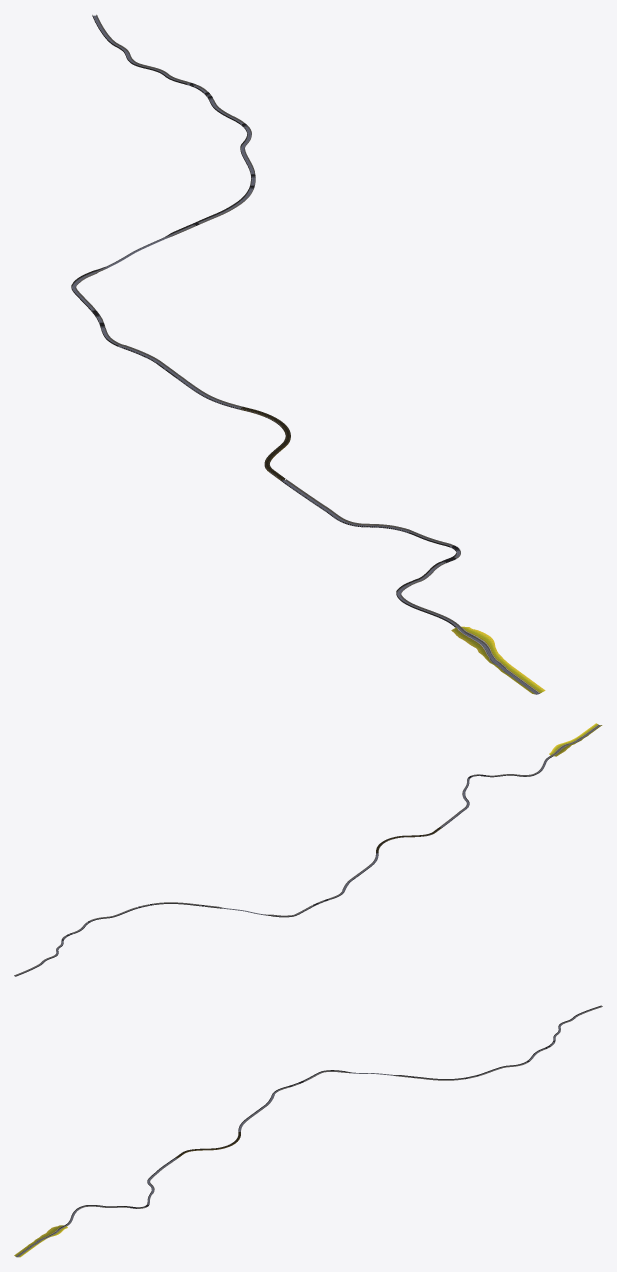
File: course-cy2.glb
3 views of the same model, one above another, from view 1: azimuth 30°, elevation 25°; view 2: azimuth 150°, elevation 25°; view 3: azimuth 330°, elevation 25° (orthographic). The views are drawn at different scales.
Parts seen in each view (by area): view 1: course-cy2; view 2: course-cy2; view 3: course-cy2.
Boxes of the visible parts, x1,y1,x2,y2 form: course-cy2: (71, 14, 545, 694); course-cy2: (14, 723, 602, 976); course-cy2: (14, 1005, 602, 1257).
Size of the model in its own units: 2346 by 57.22 by 8701.
Materials: 59 (59 with a texture image).
